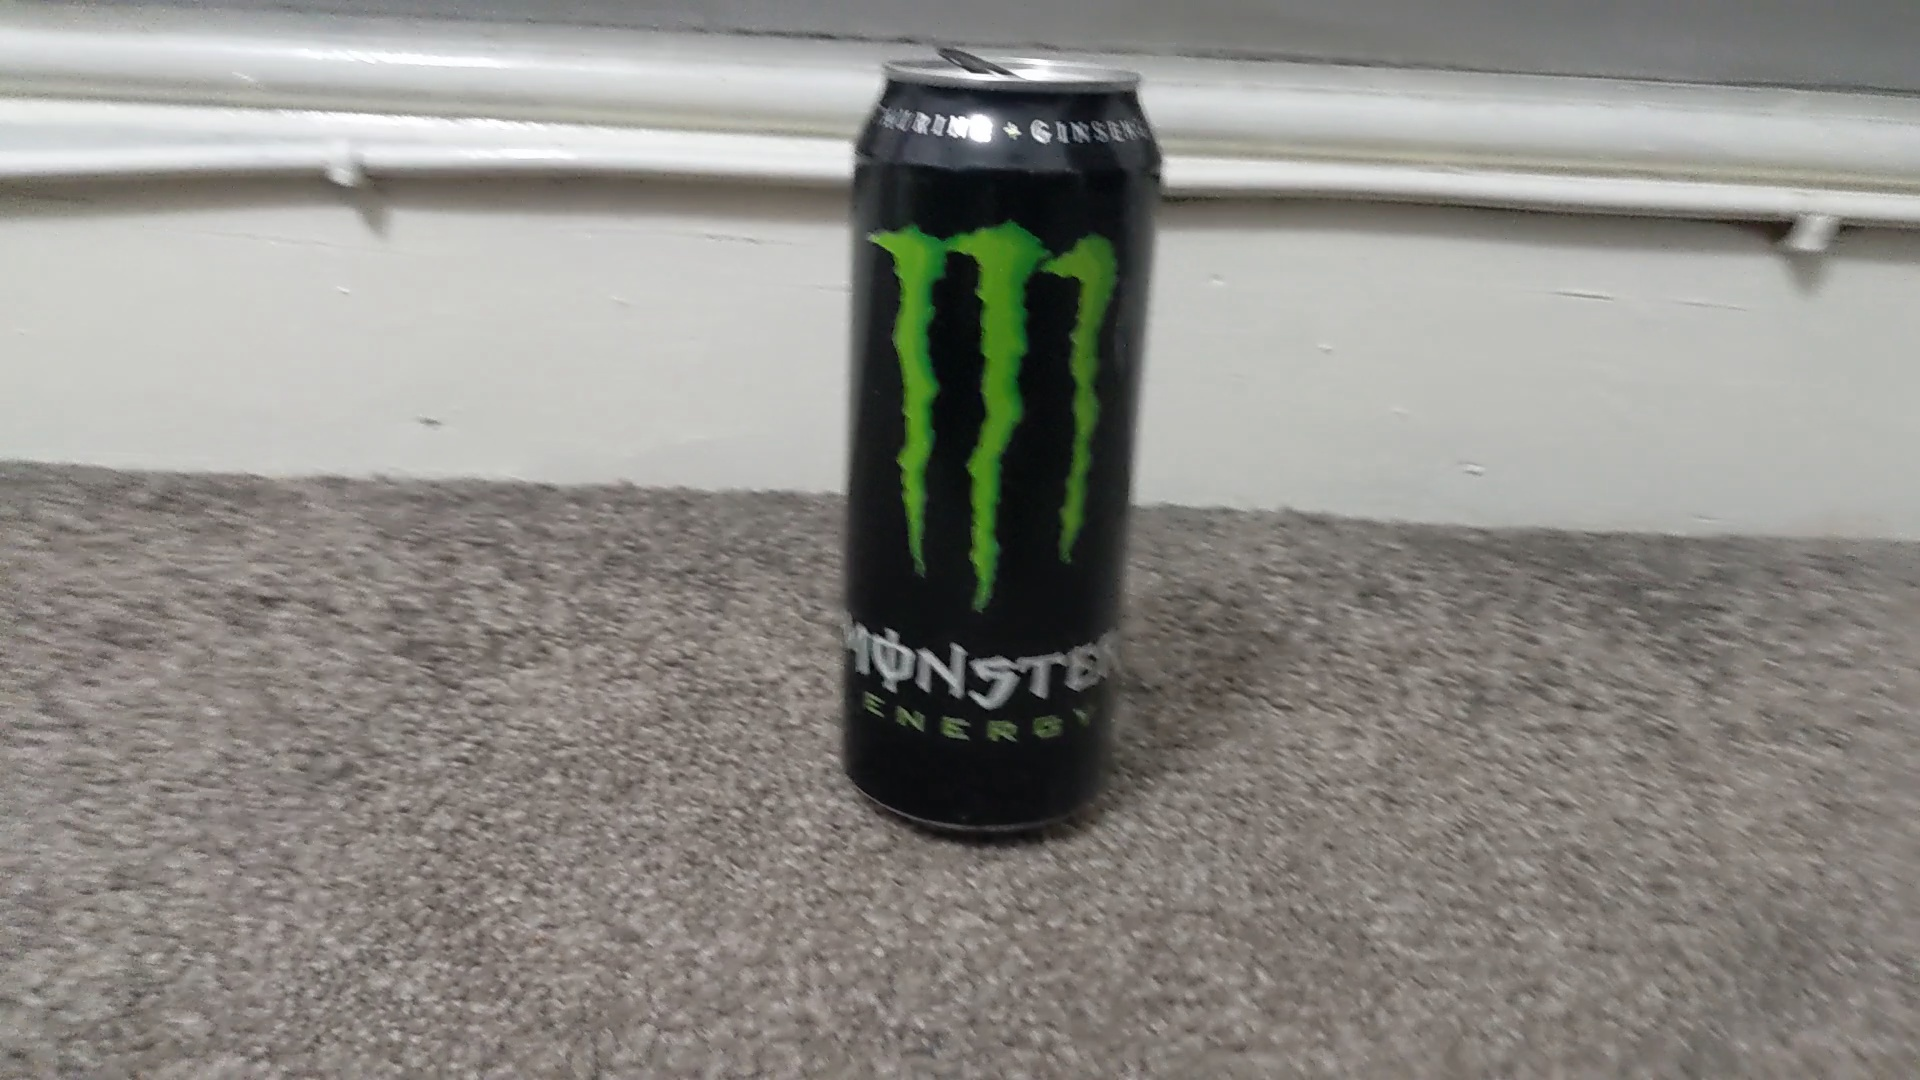monster-original: (839, 59, 1166, 837)
